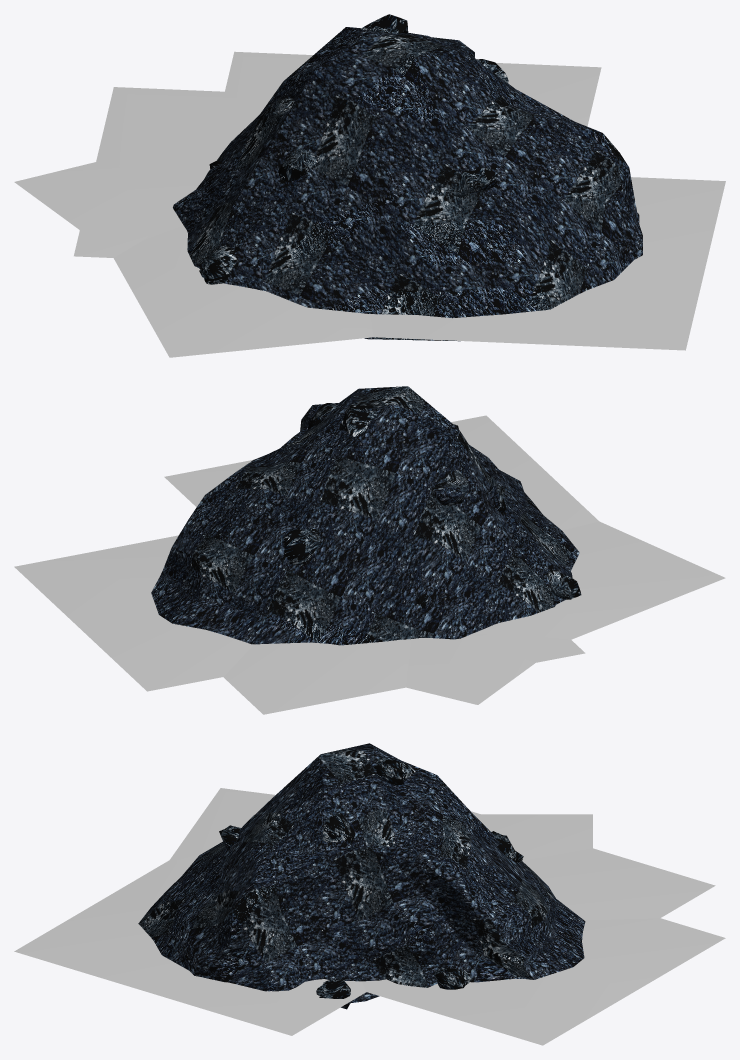
Rendered from Coal.FBX.
The picture shows the model from 3 angles, top to bottom: view 1: azimuth 30°, elevation 25°; view 2: azimuth 150°, elevation 25°; view 3: azimuth 270°, elevation 25°; orthographic projection. The views are drawn at different scales.
Parts seen in each view (by area): view 1: wall, Plane001; view 2: wall, Plane001; view 3: wall, Plane001.
Boxes of the visible parts, <box> form: wall: <box>173,14,642,341</box>; Plane001: <box>14,51,725,357</box>; wall: <box>151,386,581,645</box>; Plane001: <box>14,415,725,714</box>; wall: <box>138,743,585,1009</box>; Plane001: <box>14,788,725,1045</box>.
Size of the model in its own units: 5.26 by 1.7 by 6.14.
